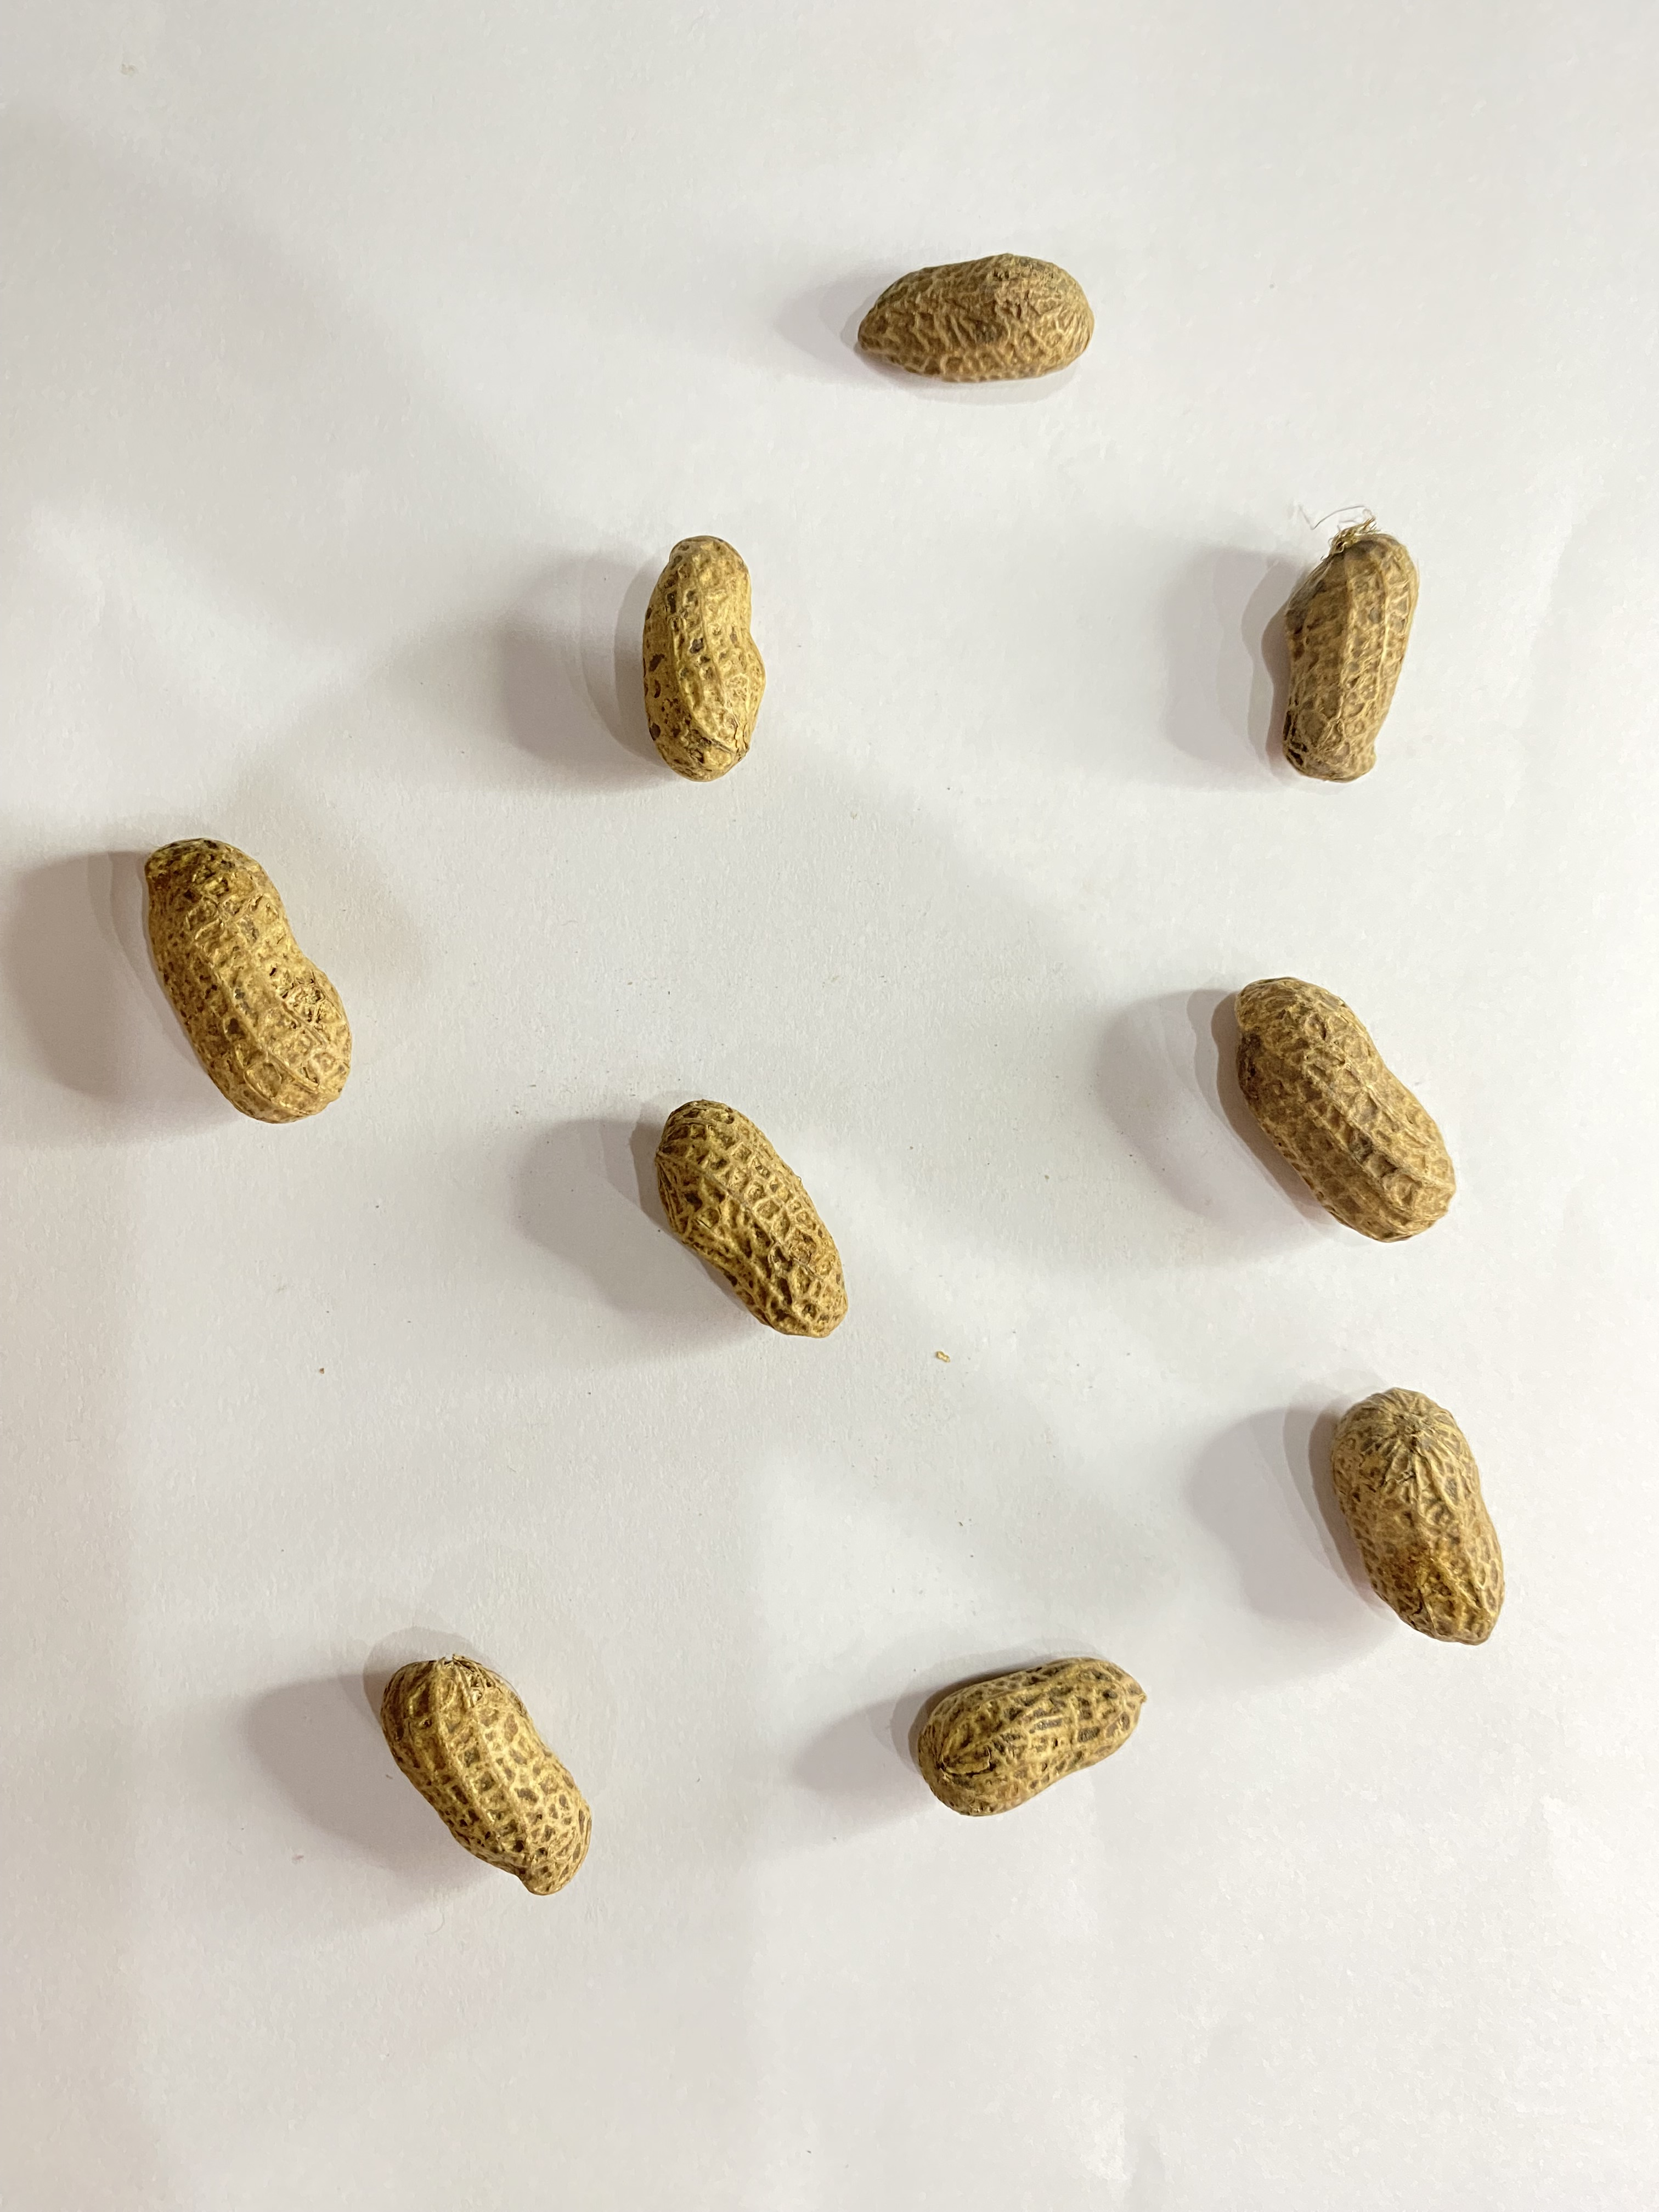kacang1: (1223, 502, 1443, 796), (845, 207, 1129, 394), (633, 500, 800, 794), (924, 1658, 1183, 1829)
kacang2: (119, 826, 382, 1125), (1234, 941, 1459, 1240), (636, 1099, 873, 1360), (1317, 1385, 1525, 1658), (383, 1648, 598, 1897)
